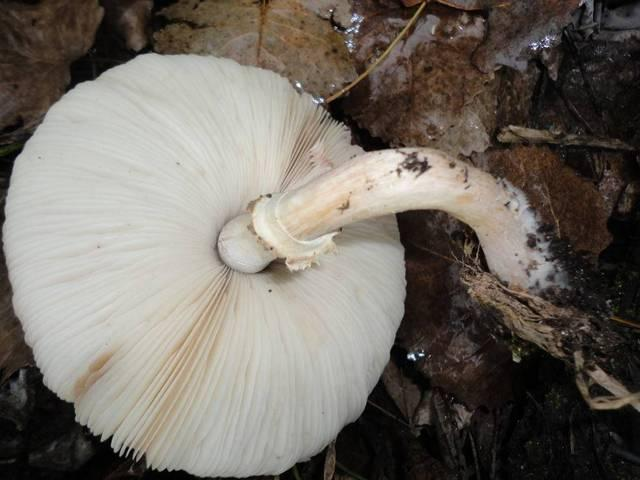Non-edible Mushroom: (0, 49, 572, 478)
